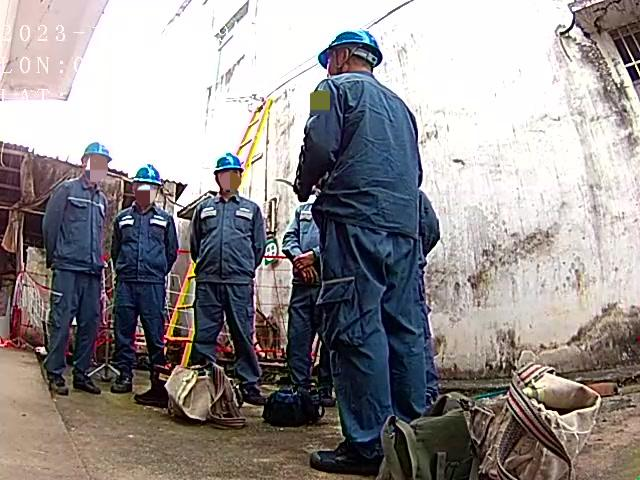halt: (322, 32, 386, 77), (214, 155, 248, 200), (133, 167, 166, 209), (82, 144, 115, 186)
inear: (333, 50, 358, 72)
